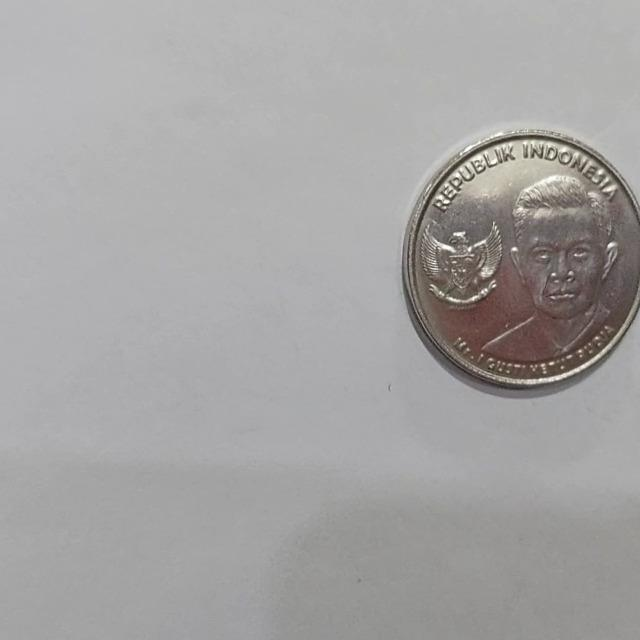Rp100: (402, 127, 640, 391)
